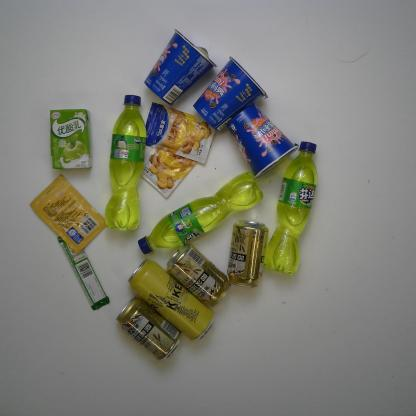Alcohol: (127, 257, 216, 342), (115, 295, 182, 362), (166, 242, 232, 308), (226, 219, 270, 289)
Chocolate: (57, 234, 110, 312)
Dessert: (143, 27, 218, 107), (193, 56, 269, 133), (226, 103, 300, 180)
Drink: (137, 171, 265, 256), (263, 140, 319, 276), (103, 94, 148, 233)
Milk: (50, 108, 92, 170)
Seasoner: (28, 173, 108, 255), (142, 101, 218, 164), (138, 134, 199, 198)
